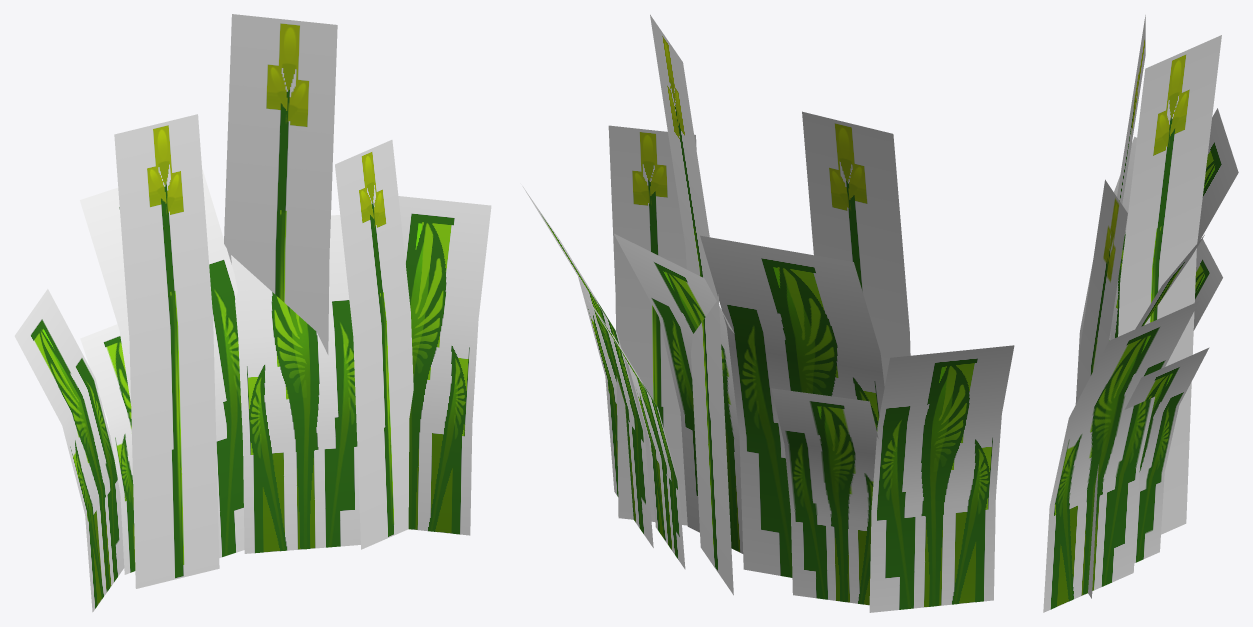
Rendered from Grass_02a.FBX.
The picture shows the model from 3 angles, left to right: view 1: azimuth 30°, elevation 25°; view 2: azimuth 150°, elevation 25°; view 3: azimuth 270°, elevation 25°; orthographic projection. The views are drawn at different scales.
Parts seen in each view (by area): view 1: Grass_02a; view 2: Grass_02a; view 3: Grass_02a.
Boxes of the visible parts, x1,y1,x2,y2 form: Grass_02a: (14, 14, 491, 612); Grass_02a: (522, 14, 1014, 612); Grass_02a: (1043, 15, 1238, 612).
Bounding box in the file's own units: 24.15 × 24.54 × 8.64.
Materials: 1 (1 with a texture image).
